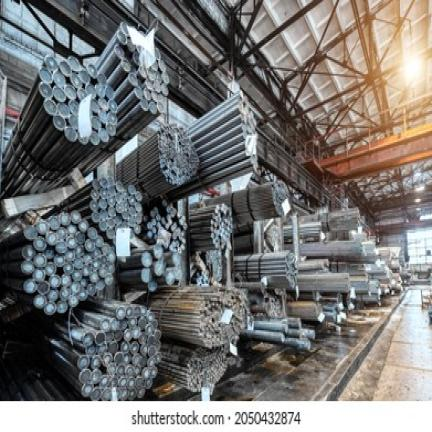besi_tidak_karat: (2, 28, 168, 194), (45, 298, 165, 397), (0, 210, 113, 313), (171, 93, 256, 196), (27, 268, 84, 312), (46, 211, 95, 262)
